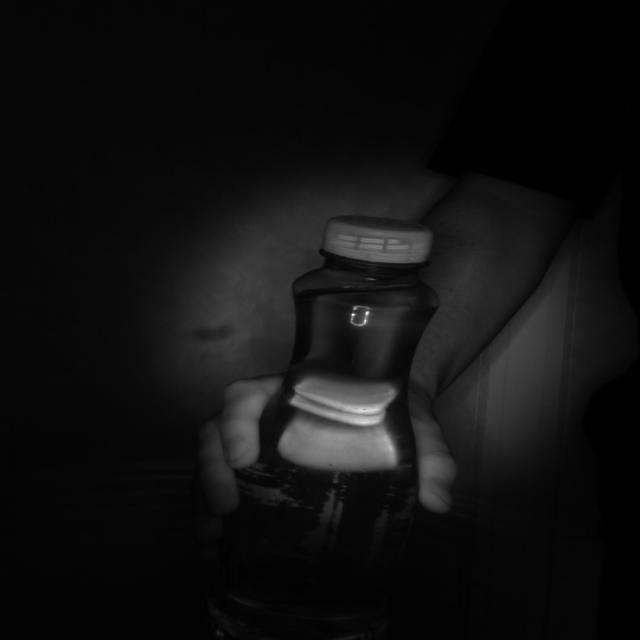Good: (326, 213, 435, 266)
